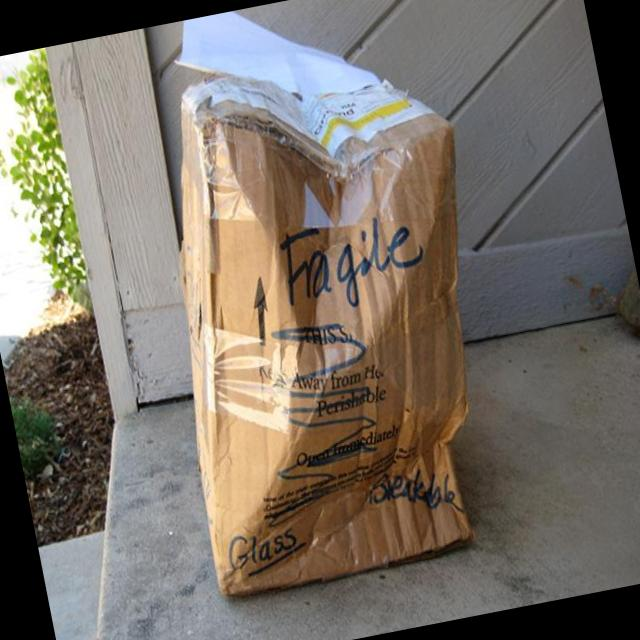crushed: (179, 83, 480, 571)
